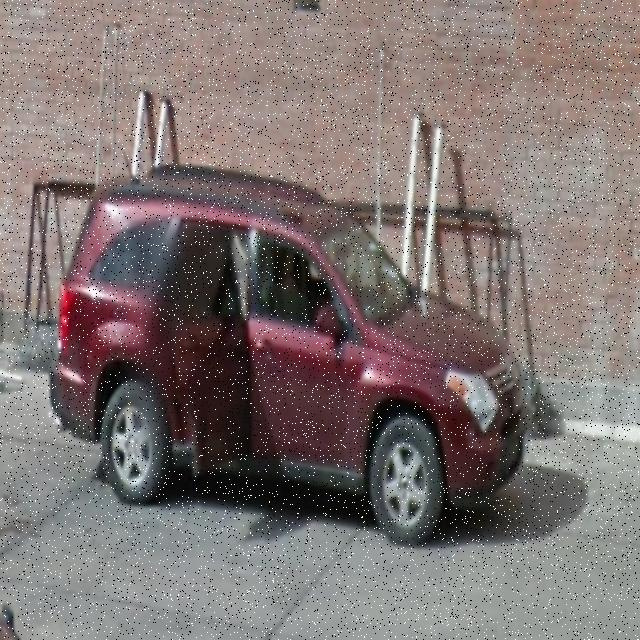cars: (62, 149, 534, 537)
